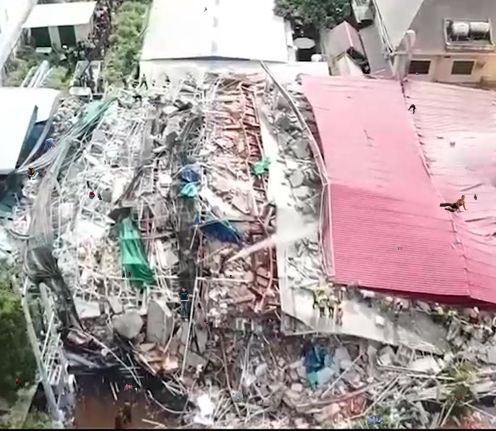Human: (177, 286, 192, 322), (439, 195, 469, 212), (121, 378, 147, 393), (232, 392, 265, 403), (186, 212, 203, 227), (26, 164, 39, 180), (367, 413, 383, 425), (14, 375, 28, 388), (43, 138, 56, 150), (89, 190, 102, 200), (6, 280, 14, 293), (408, 104, 418, 114), (122, 270, 131, 278), (203, 322, 212, 328), (456, 395, 461, 403), (262, 347, 265, 353), (474, 194, 477, 200), (414, 72, 419, 75), (204, 7, 207, 12), (398, 247, 402, 250), (153, 104, 156, 108), (132, 85, 136, 88), (104, 160, 106, 165), (2, 150, 4, 155), (230, 275, 232, 280), (234, 173, 237, 176)
